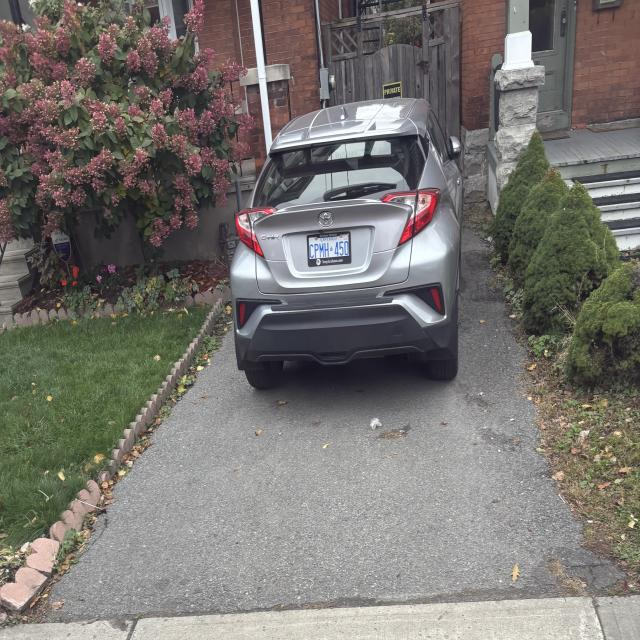plaque: (308, 232, 351, 266)
